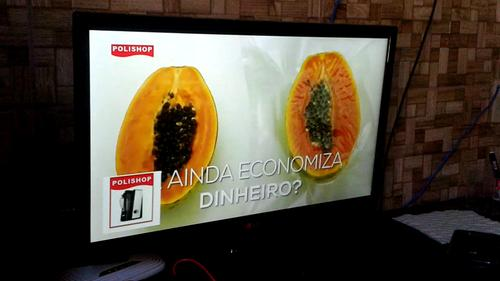Polishop #1: (103, 171, 161, 234)
